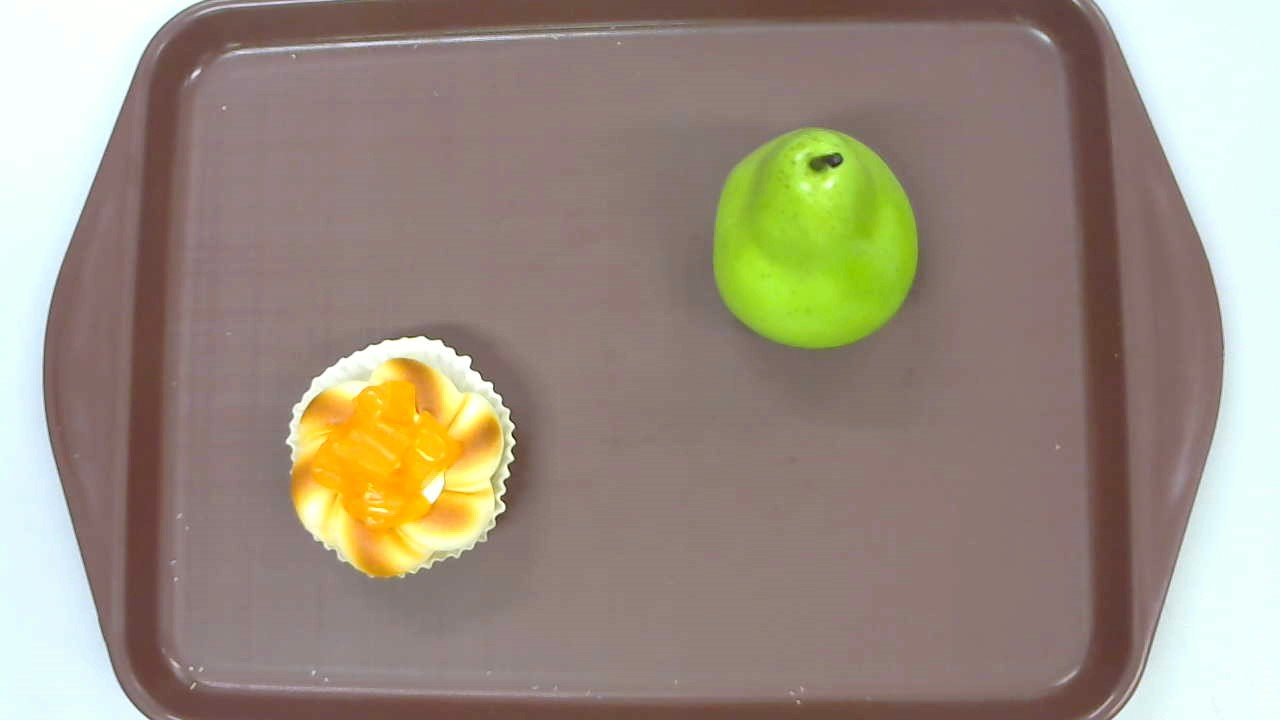green pear: (712, 125, 917, 351)
mango tart: (285, 335, 517, 579)
